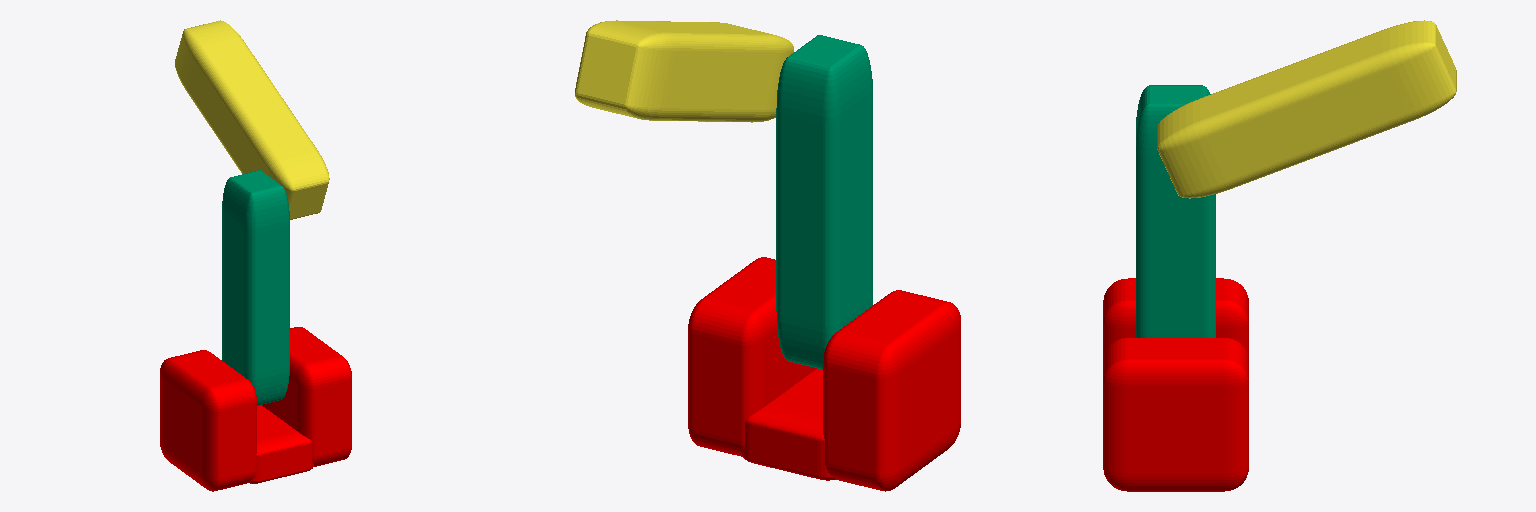
The robot description file, URDF, robot "tf_slider_robot":
<?xml version="1.0"?>
<robot name="tf_slider_robot">

  <!-- Définition des matériaux -->


<material name="red">  <color rgba="1 0 0 1"/>   </material>
<material name="blue">  <color rgba="1 0 0 1"/>   </material>





  <!-- Base link -->
  <link name="base_link">
    <visual>
      <geometry>
        <box size="0.2 0.2 0.2"/>
      </geometry>
      <material name="blue"/>
    </visual>
  </link>




  <!-- Link1 -->
  <link name="link1">
    <visual>
      <geometry>
        <mesh filename="../meshes/tinker.obj"/>
      </geometry>
      <material name="red"/>
      <origin xyz="5 0 0" rpy="0 0 0"/>
    </visual>
  </link>


 <!--  Link2   -->
  <link name="link2">
    <visual>
      <geometry>
      <mesh filename = "../meshes/tinker1.obj"/>
      </geometry>
      <origin xyz="5 0 -20" rpy="0 0 0"/>
    </visual>
  </link>



 <!--  Link3   -->
  <link name="link3">
    <visual>
      <geometry>
      <mesh filename = "../meshes/tinker2.obj"/>
      </geometry>
      <origin xyz="5 10 -70" rpy=" 0 0 0 "/>
    </visual>
  </link>








  <joint name="arm_base_axe" type="revolute">
    <parent link="base_link"/>
    <child link="link1"/>
    <origin xyz="1 0 0" rpy="0 0 0"/>
    <axis xyz="0 0 1"/>
    <limit lower="0" upper="3.14159" effort="1" velocity="1"/>
    
  </joint>


  <joint name="arm_axe_1" type="revolute">
    <parent link="link1"/>
    <child link="link2"/>
    <origin xyz="0 0 20" rpy="0 0 0"/>
    <axis xyz="1 0 0"/>
    <limit lower="0" upper="3.14159" effort="1" velocity="1"/>
  </joint>



  <joint name="arm_axe_2" type="revolute">
    <parent link="link2"/>
    <child link="link3"/>
    <origin xyz="0 0 45" rpy="0 0 0"/>
    <axis xyz="1 0 0"/>
    <limit lower="0" upper="3.14159" effort="1" velocity="1"/>
  </joint>







</robot>

--- Render facts (derived) ---
3 views of the same robot in one strip: view 1: azimuth 30°, elevation 25°; view 2: azimuth 150°, elevation 25°; view 3: azimuth 270°, elevation 25° (orthographic).
Model tf_slider_robot with 4 links and 3 joints (3 revolute), rooted at base_link, posed all joints at 0.
Links seen in each view (by area): view 1: link1, link3, link2; view 2: link1, link2, link3; view 3: link3, link1, link2.
Link boxes in pixels (bbox=[...]): link1: bbox=[160, 327, 351, 491]; link3: bbox=[175, 20, 329, 219]; link2: bbox=[222, 170, 289, 405]; link1: bbox=[688, 257, 960, 491]; link2: bbox=[776, 35, 872, 369]; link3: bbox=[575, 20, 793, 122]; link3: bbox=[1157, 20, 1456, 198]; link1: bbox=[1103, 278, 1248, 491]; link2: bbox=[1136, 85, 1215, 337].
Size in the robot's own frame: 40 by 65.59 by 92.05 metres.
3 mesh visuals loaded from 3 distinct referenced files (3 OBJ).
